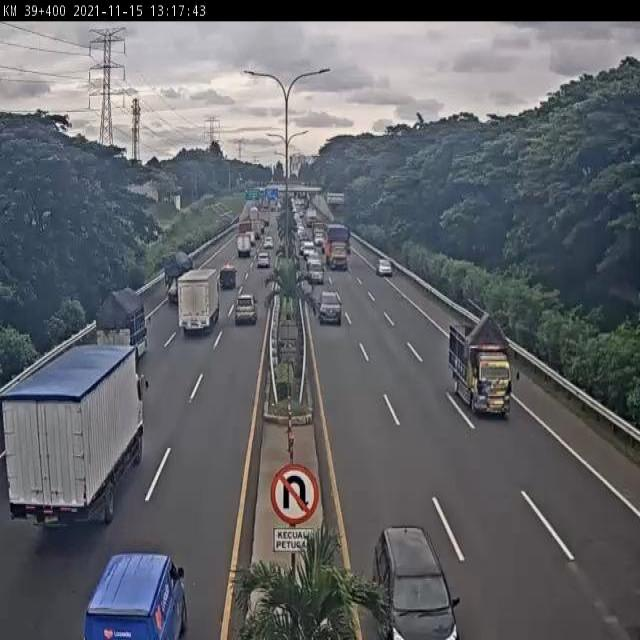Car: (374, 503, 460, 640), (310, 286, 349, 336), (229, 286, 259, 327), (372, 250, 396, 281), (305, 260, 325, 286), (254, 248, 274, 274), (262, 231, 274, 253)
Truck: (2, 325, 146, 536), (436, 302, 524, 427), (93, 277, 150, 366), (173, 260, 219, 342), (158, 242, 189, 298), (326, 222, 354, 275), (232, 231, 255, 261), (312, 217, 330, 246)
Van: (78, 541, 199, 640)
